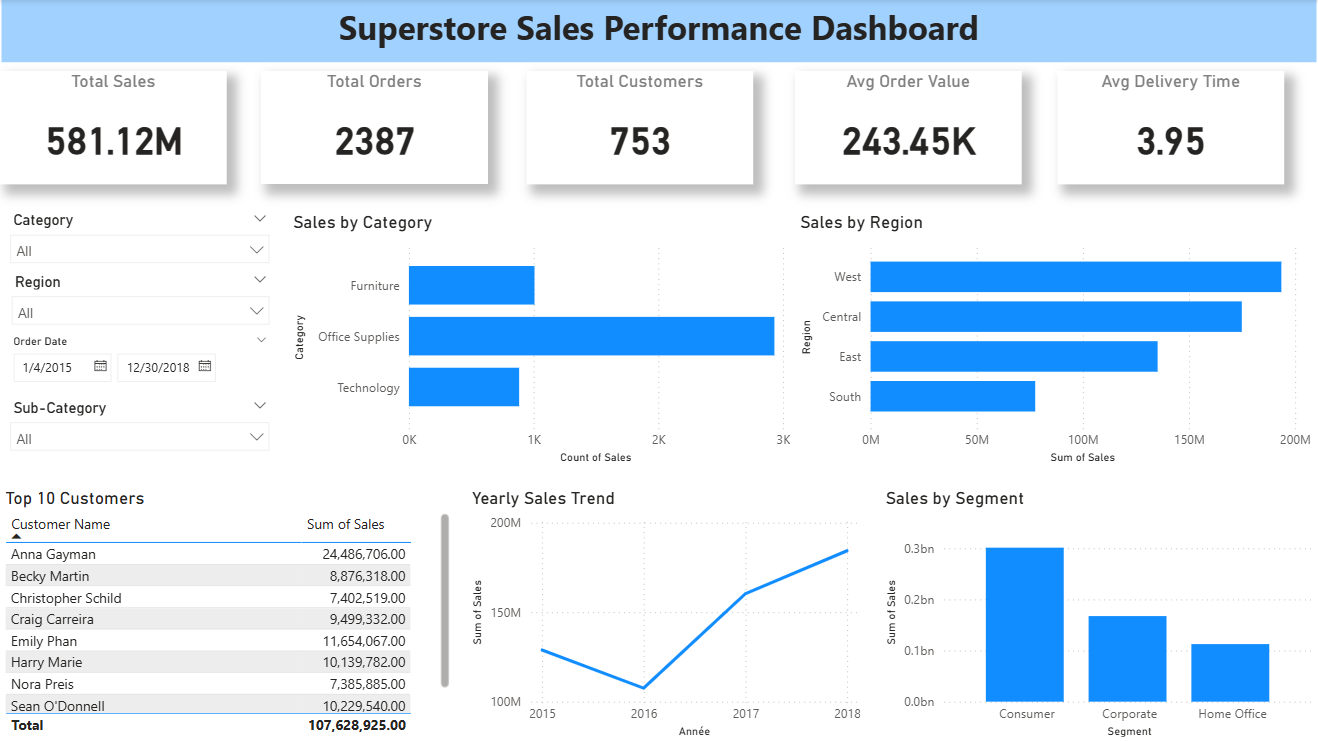

Layout of this report page (visuals, bound fields, positions):
{"tool":"powerbi","page":{"name":"Page 1","canvas":[1280,720],"ordinal":0},"visuals":[{"type":"card","title":"Total Sales","fields":{"Values":["Sum(cleaned_superstore.Sales)"]},"box":[0,70,220,110],"z":0},{"type":"card","title":"Total Orders","fields":{"Values":["Count(cleaned_superstore.Order ID)"]},"box":[252.9,70,220,110],"z":1000},{"type":"card","title":"Total Customers","fields":{"Values":["Count(cleaned_superstore.Customer Name)"]},"box":[511.4,70,220,110],"z":2000},{"type":"card","title":"Avg Delivery Time","fields":{"Values":["Avg(cleaned_superstore.delivery_days)"]},"box":[1025.7,70,220,110],"z":3000},{"type":"card","title":"Avg Order Value","fields":{"Values":["cleaned_superstore.Avg Order Value"]},"box":[771.4,70,220,110],"z":4000},{"type":"clusteredBarChart","title":"Sales by Category","fields":{"Category":["cleaned_superstore.Category"],"Y":["CountNonNull(cleaned_superstore.Sales)"]},"box":[280,206,492,248],"z":5000},{"type":"clusteredBarChart","title":"Sales by Region","fields":{"Category":["cleaned_superstore.Region"],"Y":["Sum(cleaned_superstore.Sales)"]},"box":[772,206,506,248],"z":6000},{"type":"lineChart","title":"Yearly Sales Trend","fields":{"Y":["Sum(cleaned_superstore.Sales)"],"Category":["cleaned_superstore.Order Date.Variation.Hiérarchie de dates.Année"]},"box":[452,474,387,246],"z":7000},{"type":"tableEx","title":"Top 10 Customers","fields":{"Values":["cleaned_superstore.Customer Name","Sum(cleaned_superstore.Sales)"]},"box":[0,474,441,244],"z":8000},{"type":"slicer","fields":{"Values":["cleaned_superstore.Region"]},"box":[1.4,260,270,62.9],"z":9000},{"type":"slicer","fields":{"Values":["cleaned_superstore.Category"]},"box":[0,201.4,271.4,58.6],"z":10000},{"type":"slicer","fields":{"Values":["cleaned_superstore.Order Date"]},"box":[0,320,271.4,62.9],"z":12000},{"type":"clusteredColumnChart","title":"Sales by Segment","fields":{"Y":["Sum(cleaned_superstore.Sales)"],"Category":["cleaned_superstore.Segment"]},"box":[854,474,426,246],"z":13000},{"type":"slicer","fields":{"Values":["cleaned_superstore.Sub-Category"]},"box":[0,382.9,271.4,64.3],"z":14000},{"type":"textbox","box":[1.4,0,1275.7,61.4],"z":15001}]}

Visuals, with their boxes in screenshot pixels (x1, y1, x2, y2), scaled from the page's 1280x720 canvas onto the 1318x741 screenshot:
"Total Sales" card: select_region(0, 72, 227, 185)
"Total Orders" card: select_region(260, 72, 487, 185)
"Total Customers" card: select_region(527, 72, 753, 185)
"Avg Delivery Time" card: select_region(1056, 72, 1283, 185)
"Avg Order Value" card: select_region(794, 72, 1021, 185)
"Sales by Category" clusteredBarChart: select_region(288, 212, 795, 467)
"Sales by Region" clusteredBarChart: select_region(795, 212, 1316, 467)
"Yearly Sales Trend" lineChart: select_region(465, 488, 864, 740)
"Top 10 Customers" tableEx: select_region(0, 488, 454, 739)
slicer - cleaned_superstore.Region: select_region(1, 268, 279, 332)
slicer - cleaned_superstore.Category: select_region(0, 207, 279, 268)
slicer - cleaned_superstore.Order Date: select_region(0, 329, 279, 394)
"Sales by Segment" clusteredColumnChart: select_region(879, 488, 1317, 740)
slicer - cleaned_superstore.Sub-Category: select_region(0, 394, 279, 460)
textbox: select_region(1, 0, 1315, 63)
